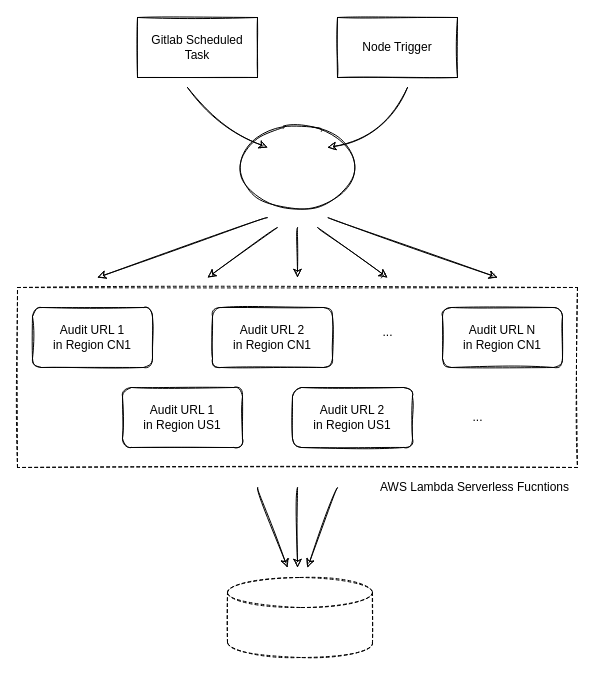
The diagram is 595 pixels wide and 675 high, and some of its shapes have lost their labels. The box of each missing label's shape, as (x1, y1, x2, y2) in pixels:
AWS S3: (226, 576, 372, 658)
AWS SQS: (236, 126, 358, 208)
